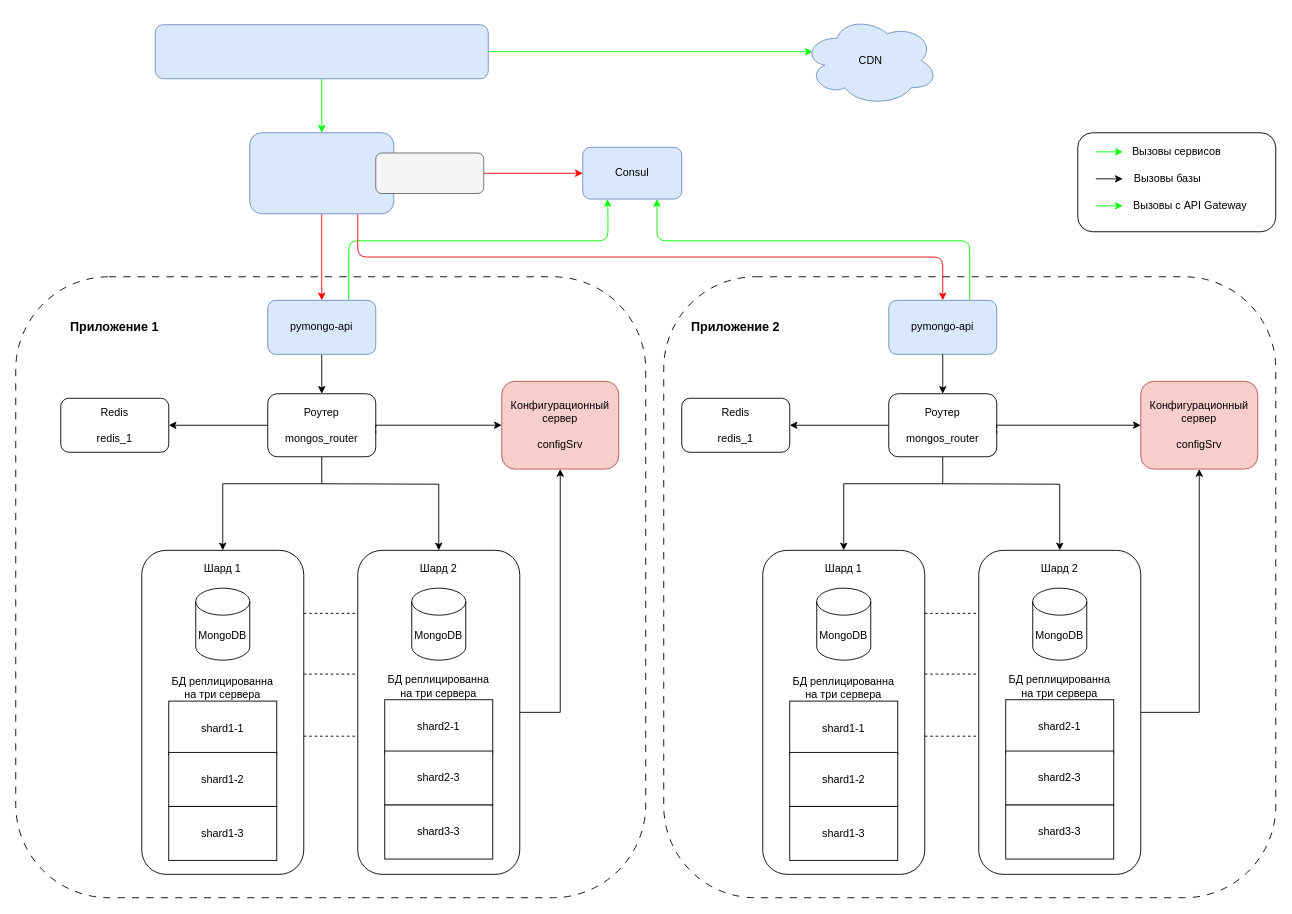
The diagram is 1292 pixels wide and 914 high, and some of its shapes have lost their labels. Each missing label, with the centre of its shape:
APISIX Gateway: [321,173]
consul_kv: [429,173]
Сайт React/Nginx: [321,51]
